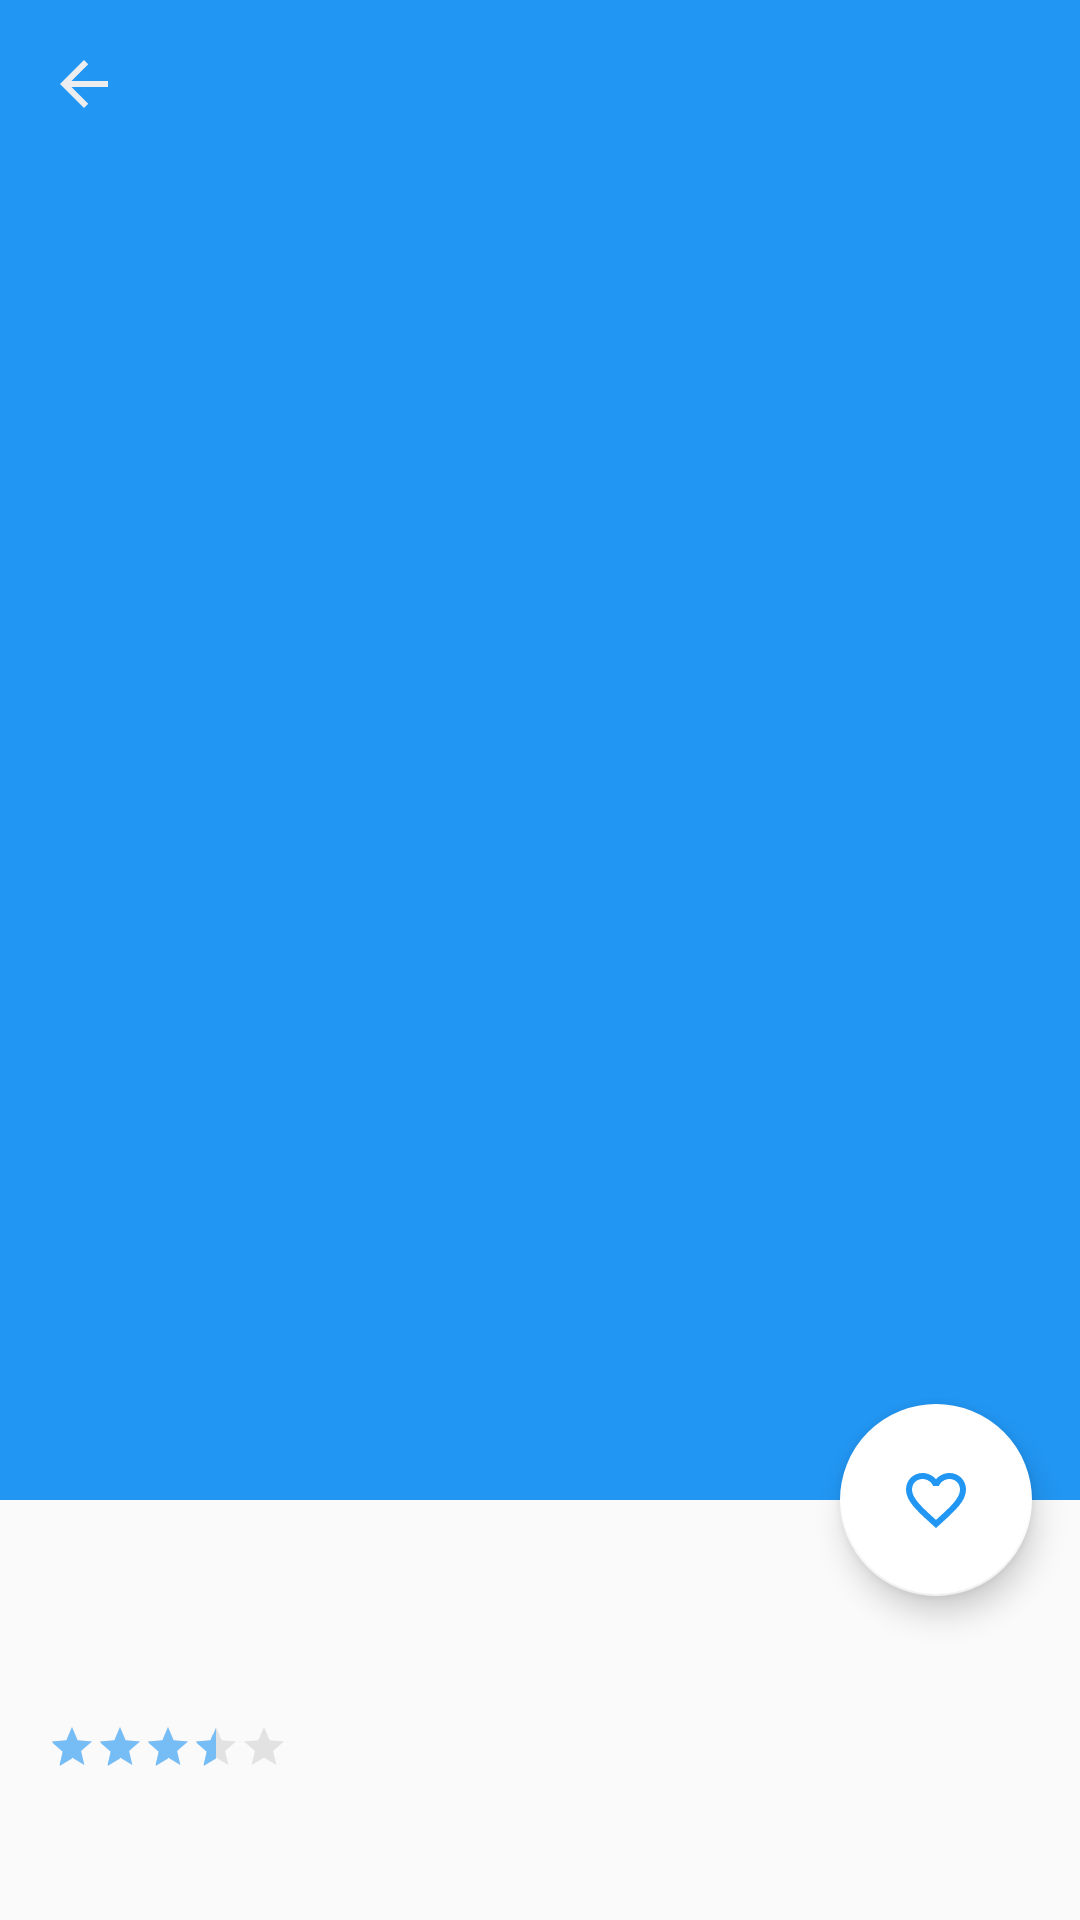

Named icons in this screenshot (1080×1920) and their centers, [x,y]:
back: [84,84]
favorite border: [936,1500]
